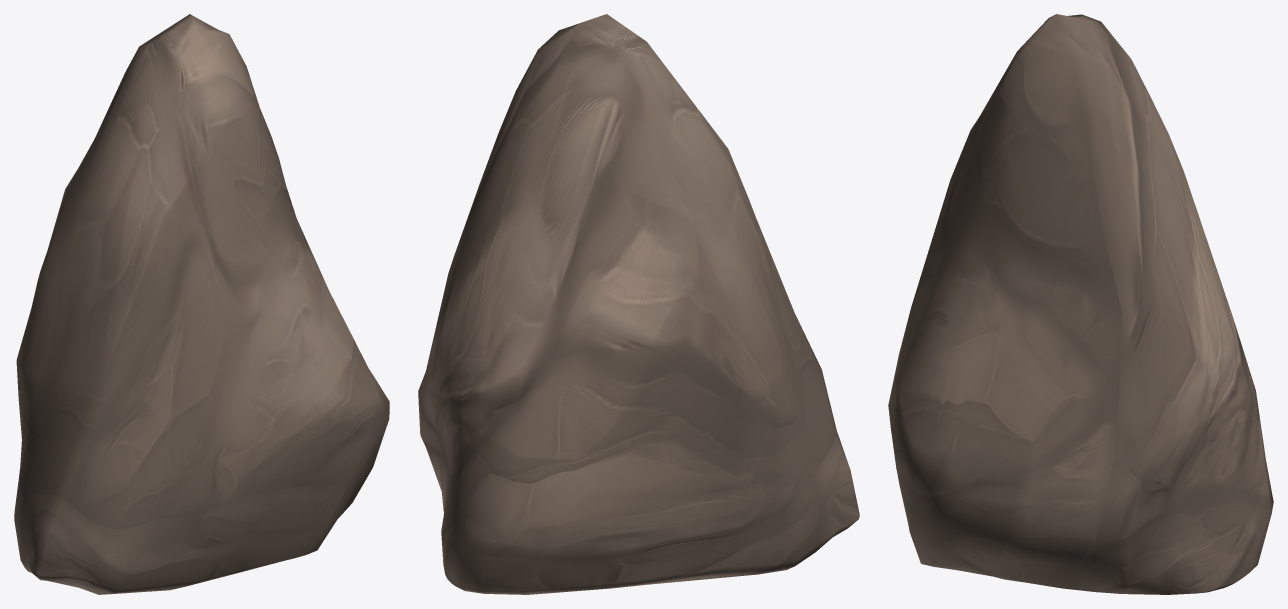
The picture shows the model from 3 angles, left to right: view 1: azimuth 30°, elevation 25°; view 2: azimuth 150°, elevation 25°; view 3: azimuth 270°, elevation 25°; orthographic projection. The views are drawn at different scales.
Parts seen in each view (by area): view 1: ZBrush_defualt_group; view 2: ZBrush_defualt_group; view 3: ZBrush_defualt_group.
Part boxes in pixels (bbox=[...]): ZBrush_defualt_group: bbox=[14, 14, 389, 594]; ZBrush_defualt_group: bbox=[418, 14, 859, 594]; ZBrush_defualt_group: bbox=[888, 14, 1273, 594].
Size of the model in its own units: 2.39 by 3.15 by 2.04.
1 material, 1 textured.
